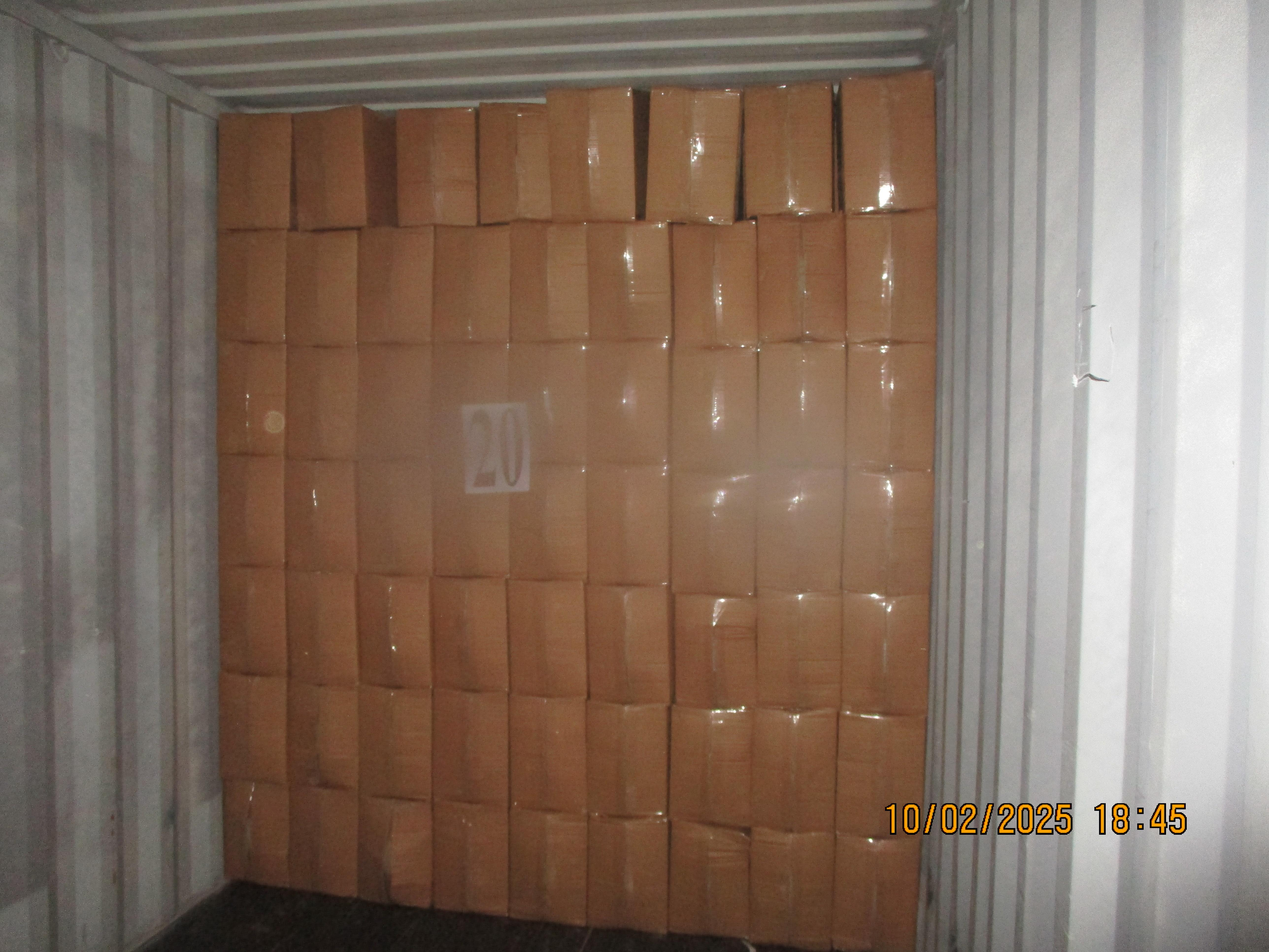carton: (546, 84, 649, 220), (840, 68, 936, 212), (646, 84, 742, 222), (292, 105, 397, 230), (743, 80, 834, 216), (846, 209, 937, 342), (756, 211, 846, 342), (842, 470, 934, 595), (845, 343, 935, 470), (757, 341, 846, 468), (835, 712, 926, 835), (671, 220, 758, 347), (669, 347, 758, 471), (670, 470, 757, 596), (755, 469, 844, 592), (749, 708, 837, 832), (841, 592, 930, 714), (585, 584, 674, 704), (747, 827, 834, 949), (587, 340, 670, 464), (586, 221, 672, 340), (833, 834, 920, 951), (586, 464, 670, 584), (669, 706, 752, 827), (756, 591, 841, 709), (395, 106, 478, 226), (508, 341, 589, 463), (585, 700, 669, 817), (430, 342, 513, 460), (668, 820, 750, 938), (509, 222, 590, 341), (587, 815, 669, 932), (508, 694, 587, 814), (506, 580, 587, 697), (674, 594, 757, 708), (508, 808, 587, 925), (508, 463, 587, 580), (355, 343, 434, 459), (432, 460, 510, 577), (432, 687, 509, 805), (432, 226, 510, 342), (357, 226, 434, 343), (478, 100, 551, 223), (216, 111, 292, 229), (356, 459, 433, 575), (430, 577, 508, 690), (433, 801, 508, 915), (357, 573, 432, 687), (358, 685, 432, 800), (285, 570, 358, 686), (358, 795, 432, 908), (285, 345, 358, 458), (286, 230, 357, 346), (284, 459, 357, 571), (286, 680, 359, 789), (216, 230, 286, 342), (216, 342, 286, 454), (288, 785, 358, 897), (217, 673, 287, 782), (218, 566, 287, 676), (217, 455, 285, 566), (222, 781, 289, 887)
